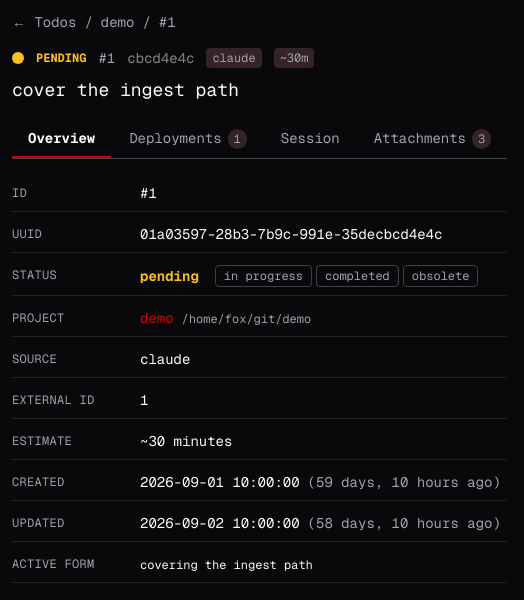
Test case: todo detail › shows an image attachment as a picture and any other as its type and size
This screenshot has width=524, height=600.
Click the button "Attachments3" at (432, 139), box [358,120,507,158]
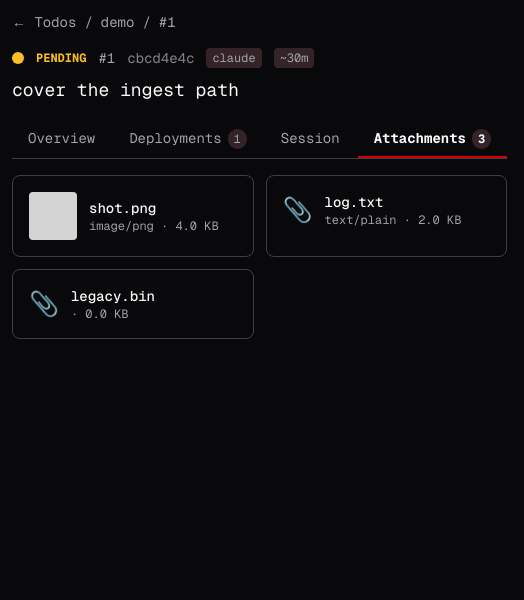
Now the text "text/plain" is shown, box [324,212,396,228]
Now the text "2.0 KB" is shown, box [324,212,461,228]
Now the text "legacy.bin" is shown, box [71,286,155,306]
